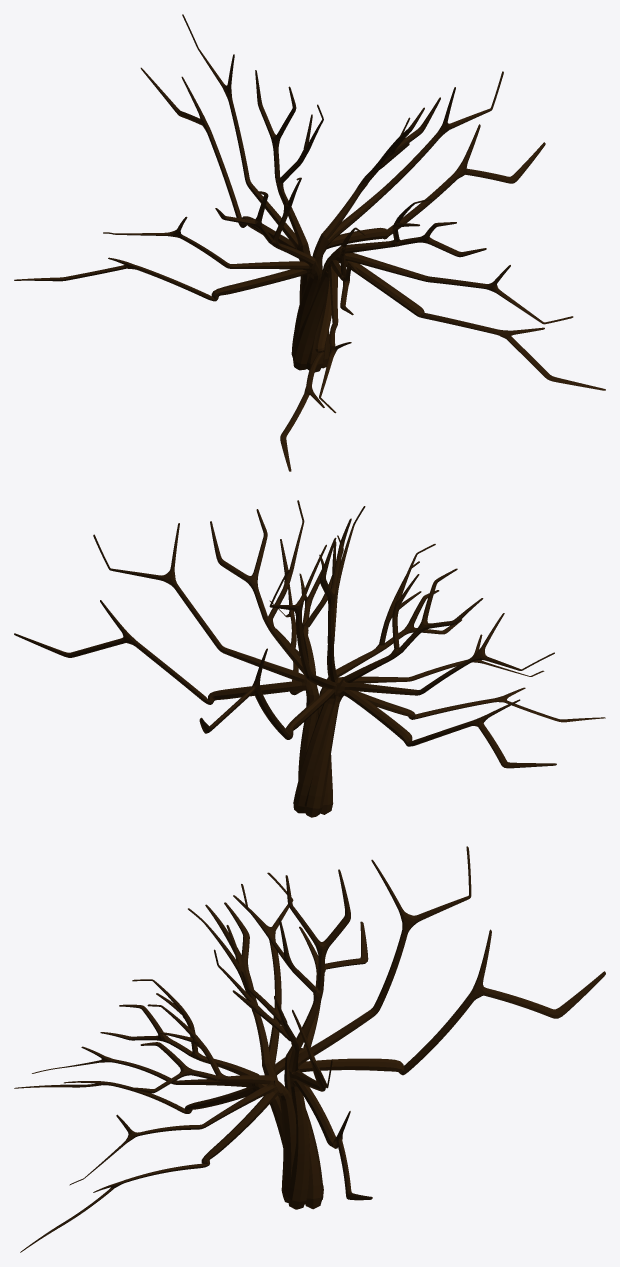
File: Tree1.fbx
3 views of the same model, one above another, from view 1: azimuth 30°, elevation 25°; view 2: azimuth 150°, elevation 25°; view 3: azimuth 270°, elevation 25° (orthographic). The views are drawn at different scales.
Visible parts, largest first — view 1: Cube; view 2: Cube; view 3: Cube.
Boxes of the visible parts, <box> form: Cube: <box>14,14,605,471</box>; Cube: <box>14,500,605,817</box>; Cube: <box>14,846,605,1252</box>.
Size of the model in its own units: 1241 by 686 by 1110.
